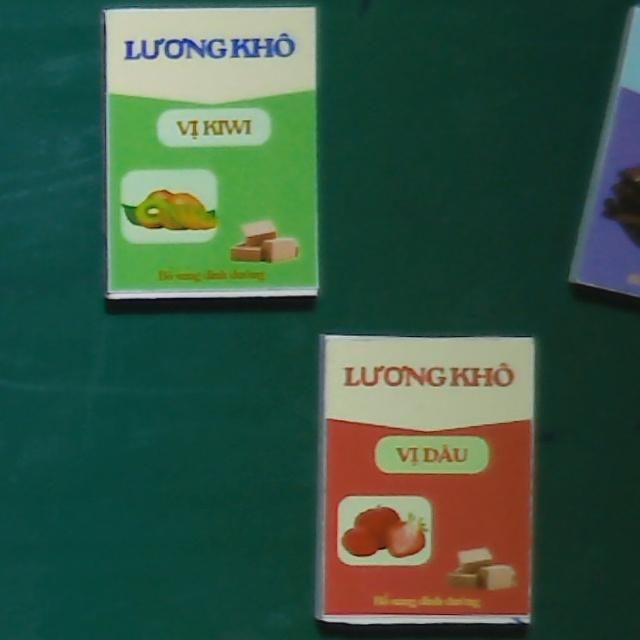dau: (316, 335, 533, 625)
kiwi: (103, 5, 317, 296)
socola: (569, 5, 639, 297)
